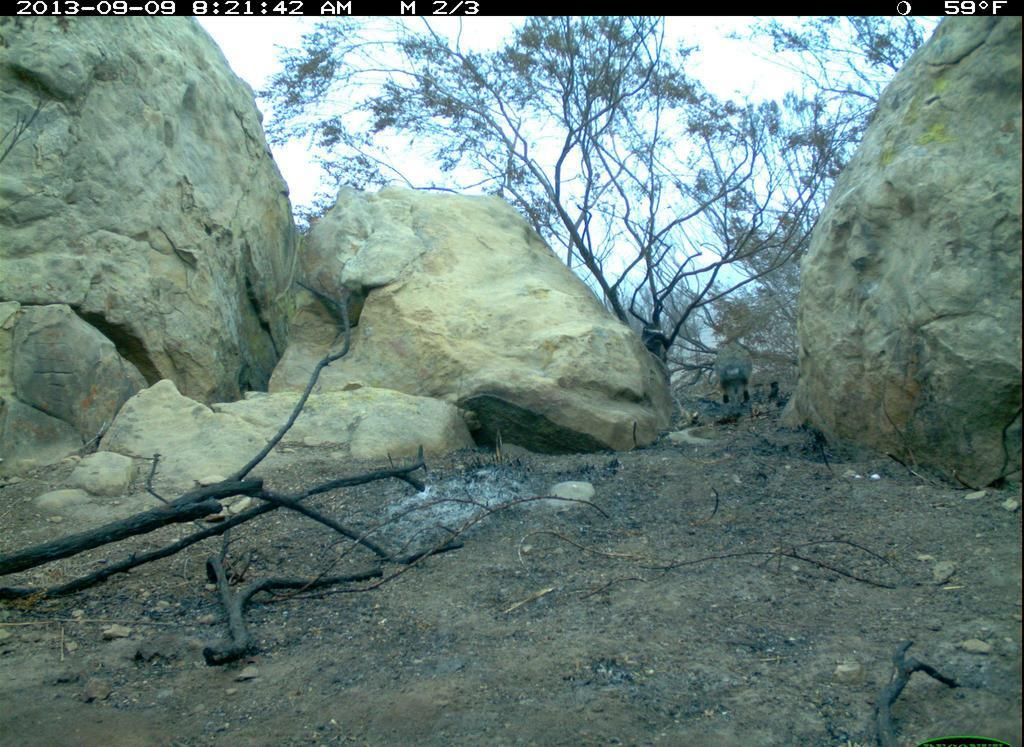rabbit: (702, 310, 780, 441)
